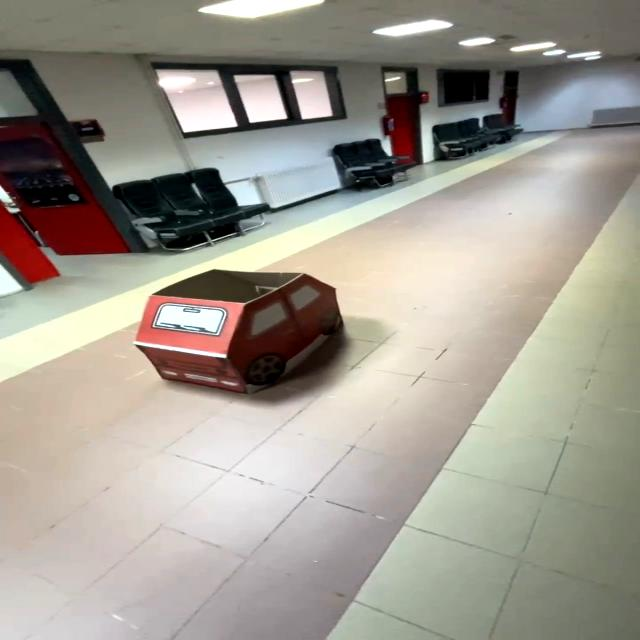red_car: (110, 258, 378, 403)
